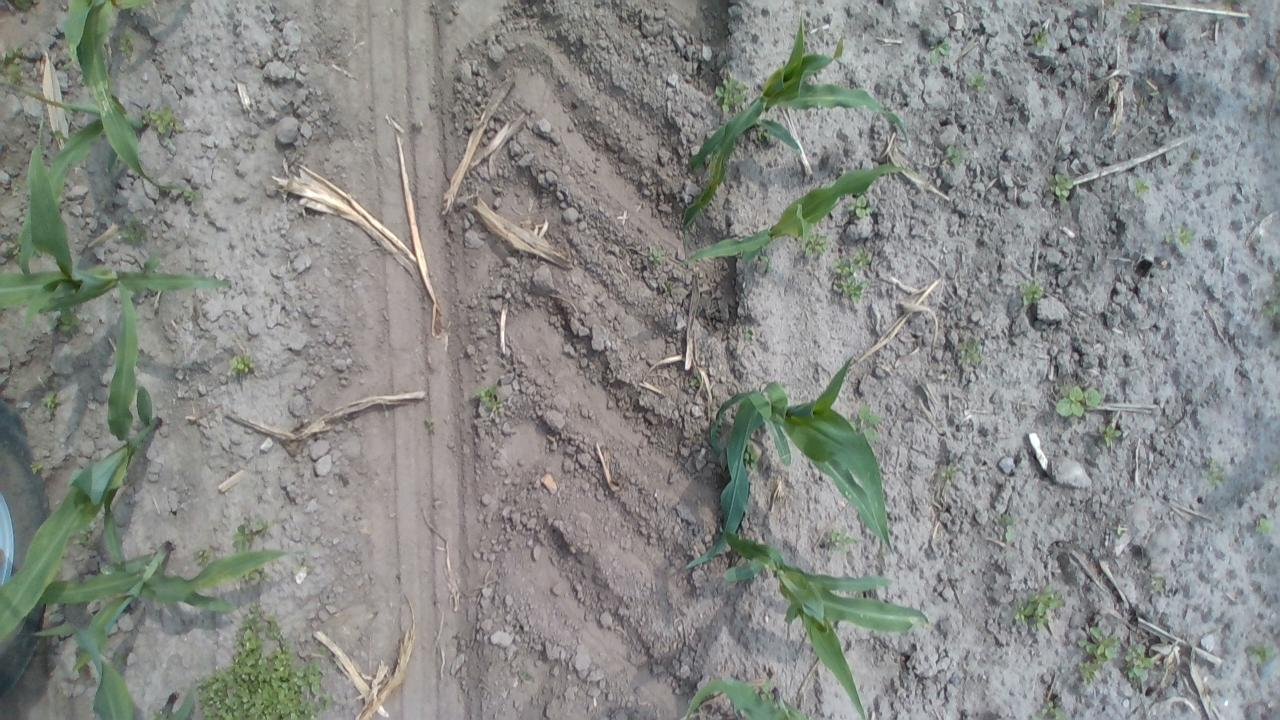Maize: (0, 267, 167, 658), (0, 112, 239, 336), (674, 7, 908, 228), (687, 354, 901, 582), (20, 0, 165, 282), (718, 529, 926, 720), (18, 541, 299, 679), (679, 160, 911, 274), (49, 612, 208, 720), (681, 671, 856, 720)
Weeds: (192, 602, 334, 720), (834, 243, 881, 306), (1073, 628, 1117, 690), (1012, 583, 1062, 628), (1116, 638, 1156, 694), (1051, 382, 1101, 420), (845, 402, 886, 448), (464, 378, 508, 420), (232, 518, 280, 554), (142, 104, 184, 142), (713, 72, 747, 114), (114, 210, 149, 248), (1042, 170, 1077, 207), (0, 43, 29, 86), (954, 332, 985, 369), (226, 348, 264, 378), (1029, 696, 1075, 720), (994, 509, 1021, 547), (108, 26, 138, 60), (1256, 292, 1280, 334), (1096, 424, 1130, 453), (45, 312, 88, 334), (821, 528, 859, 552), (1162, 224, 1197, 250), (1246, 638, 1276, 668), (846, 191, 872, 225), (1023, 26, 1053, 54), (1200, 458, 1228, 488), (1018, 279, 1045, 308), (923, 38, 953, 64), (800, 234, 831, 258), (192, 542, 218, 570), (939, 142, 965, 170), (1120, 3, 1148, 28), (238, 570, 272, 590), (741, 438, 759, 472), (962, 68, 989, 90), (758, 678, 785, 700), (654, 274, 676, 300), (39, 392, 61, 417), (1254, 516, 1274, 543), (1130, 176, 1150, 201), (646, 244, 665, 270), (514, 664, 536, 686), (1108, 518, 1132, 538), (938, 463, 959, 484), (684, 370, 706, 390), (81, 520, 97, 546), (32, 455, 50, 476), (1265, 458, 1280, 480), (179, 189, 201, 203), (1152, 574, 1166, 596), (741, 324, 757, 342)
